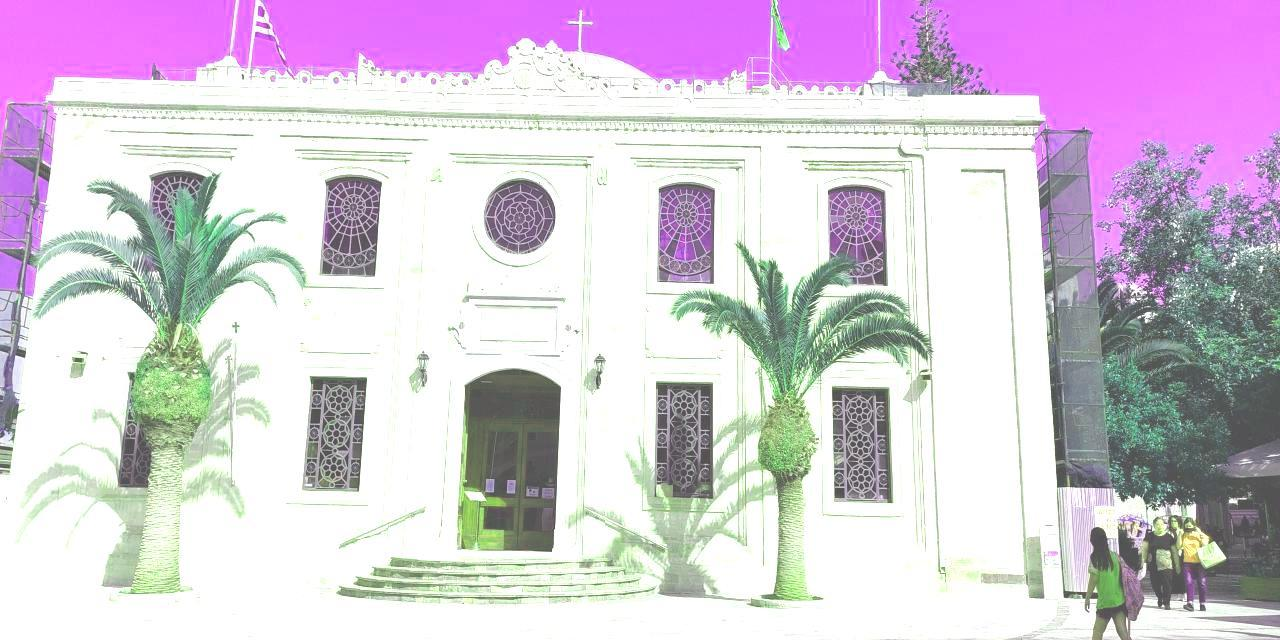Agios Titos: (3, 49, 1059, 597)
